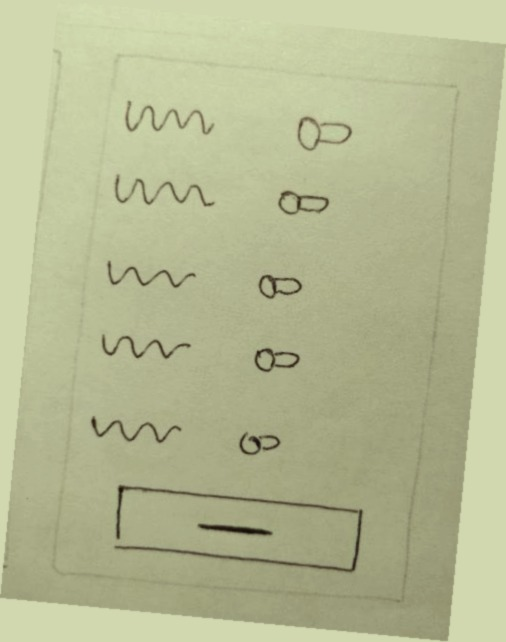button: (98, 474, 373, 582)
switch: (284, 101, 362, 161), (241, 330, 316, 391), (266, 179, 340, 232), (222, 421, 296, 463), (251, 265, 313, 311)
text: (77, 400, 189, 461), (102, 163, 218, 221), (116, 88, 217, 153), (97, 248, 201, 304), (86, 321, 196, 371)
